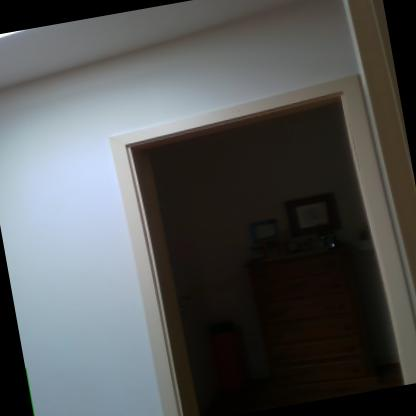open: (89, 50, 415, 415)
